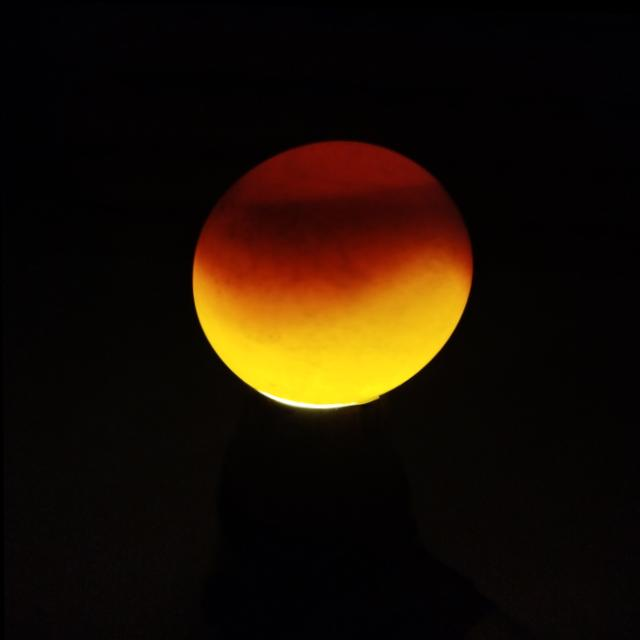Area Infectada: (215, 183, 460, 243)
